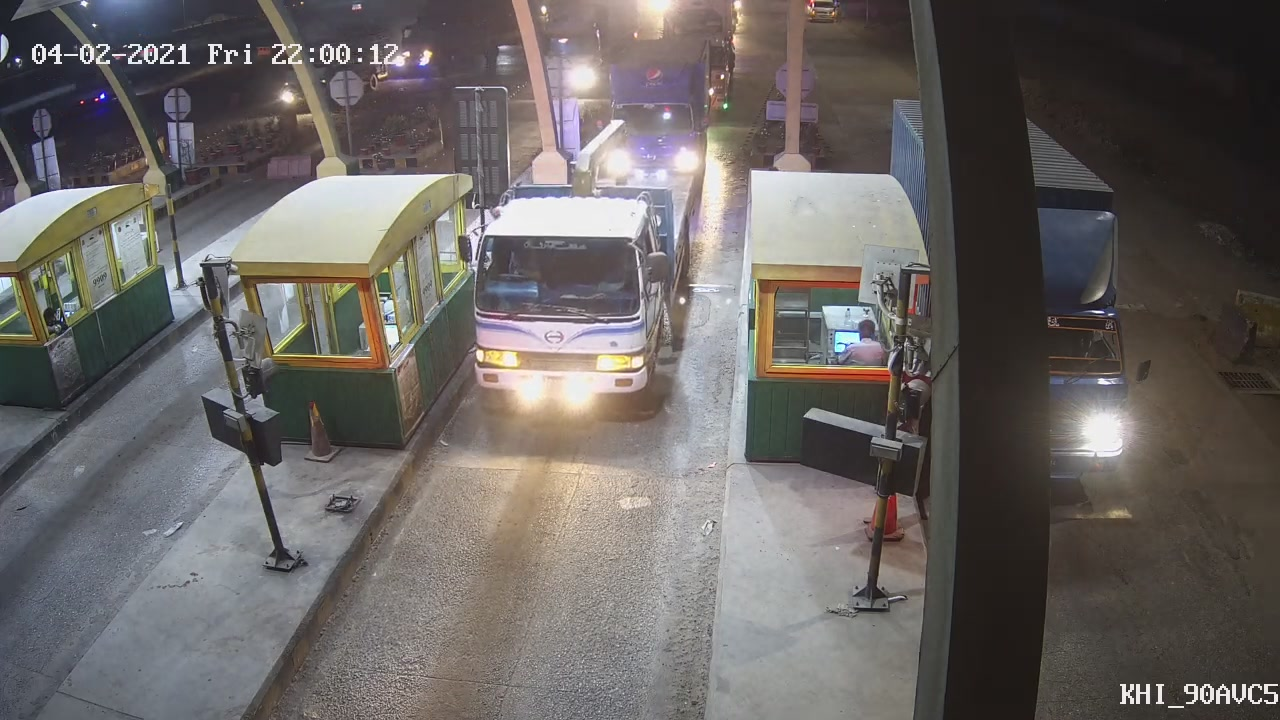F6: (450, 166, 688, 415)
